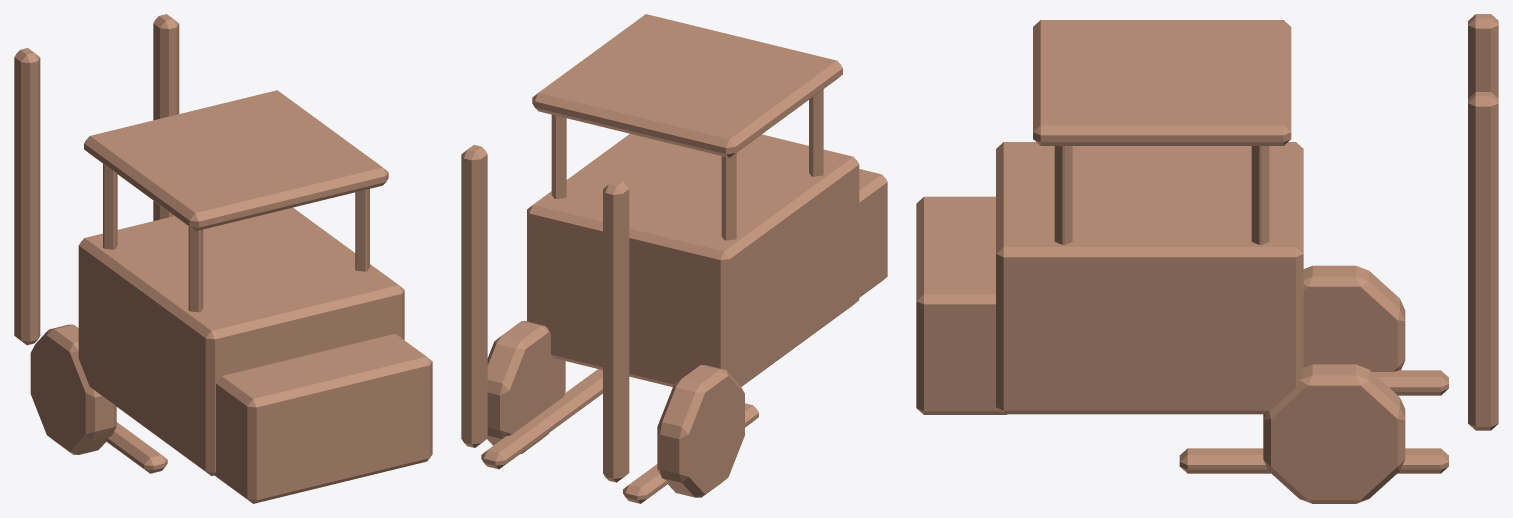
Rendered from SM_Forklift_1p2x2x2p4.glb.
3 views of the same model, side by side, from view 1: azimuth 30°, elevation 25°; view 2: azimuth 150°, elevation 25°; view 3: azimuth 270°, elevation 25° (orthographic). The views are drawn at different scales.
Visible parts, largest first — view 1: SM_Forklift_1p2x2x2p4; view 2: SM_Forklift_1p2x2x2p4; view 3: SM_Forklift_1p2x2x2p4.
Part boxes in pixels (bbox=[...]): SM_Forklift_1p2x2x2p4: bbox=[14, 14, 432, 503]; SM_Forklift_1p2x2x2p4: bbox=[461, 14, 887, 503]; SM_Forklift_1p2x2x2p4: bbox=[916, 14, 1498, 503].
Bounding box in the file's own units: 1.07 × 1.7 × 2.27.
